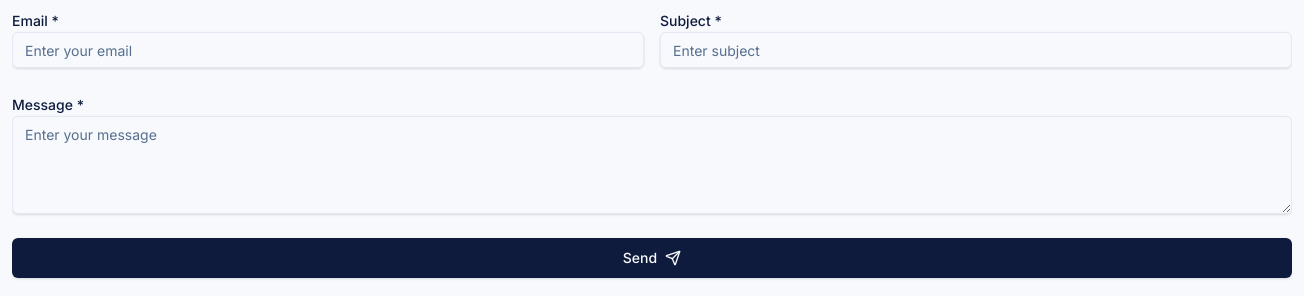
it: ContactForm.tsx - ContactForm Component › Loading State Tests › TC22: Should disable button when pending
Type "test@example.com" into the field with placeholder "Enter your email".
click(328, 50); type("test@example.com")  # box [12,32,644,68]
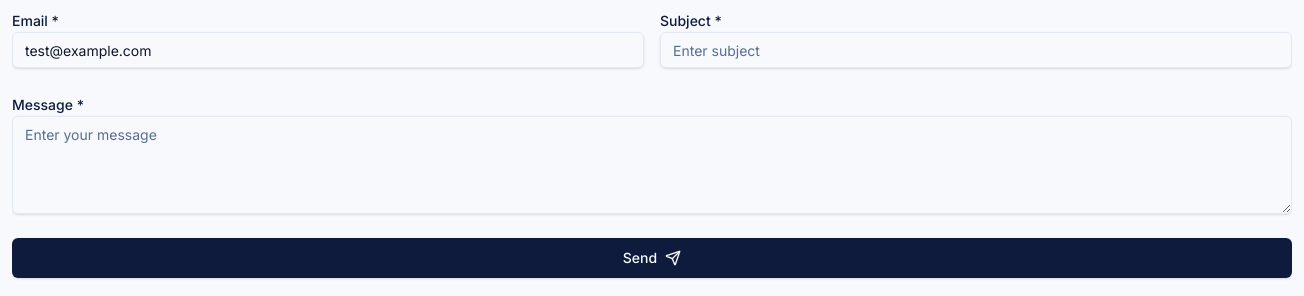
Type "Test message" into the text box with placeholder "Enter your message".
click(652, 165); type("Test message")  # box [12,116,1292,214]
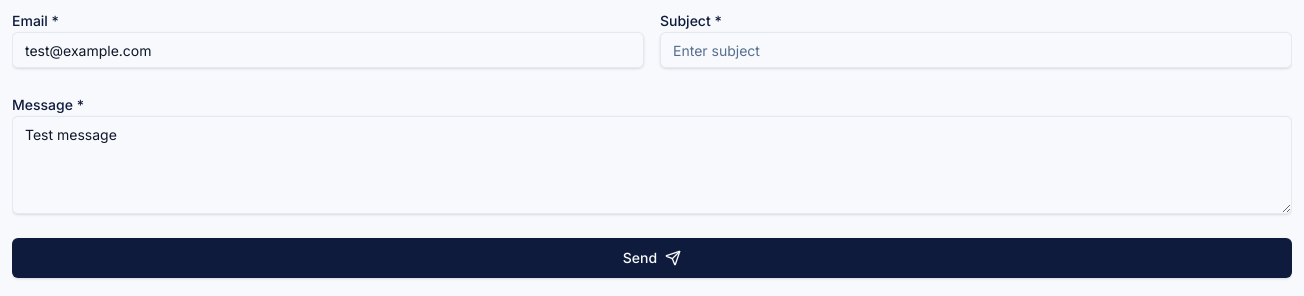
Submit the form
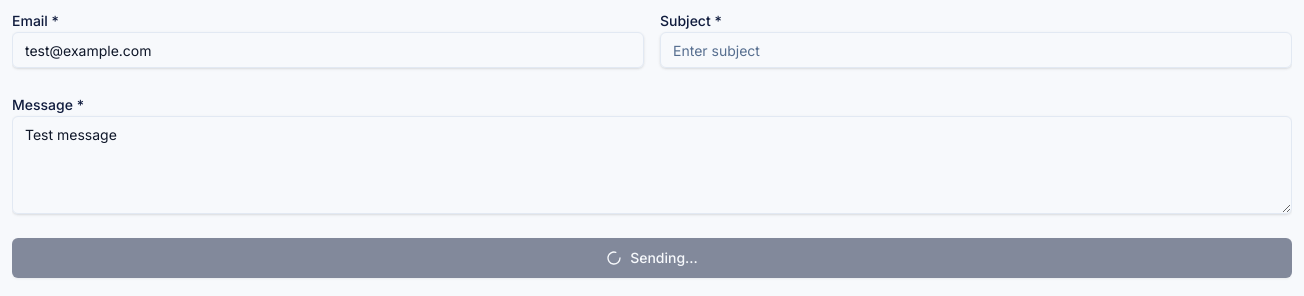
Check: the button is disabled, box [12,238,1292,278]
